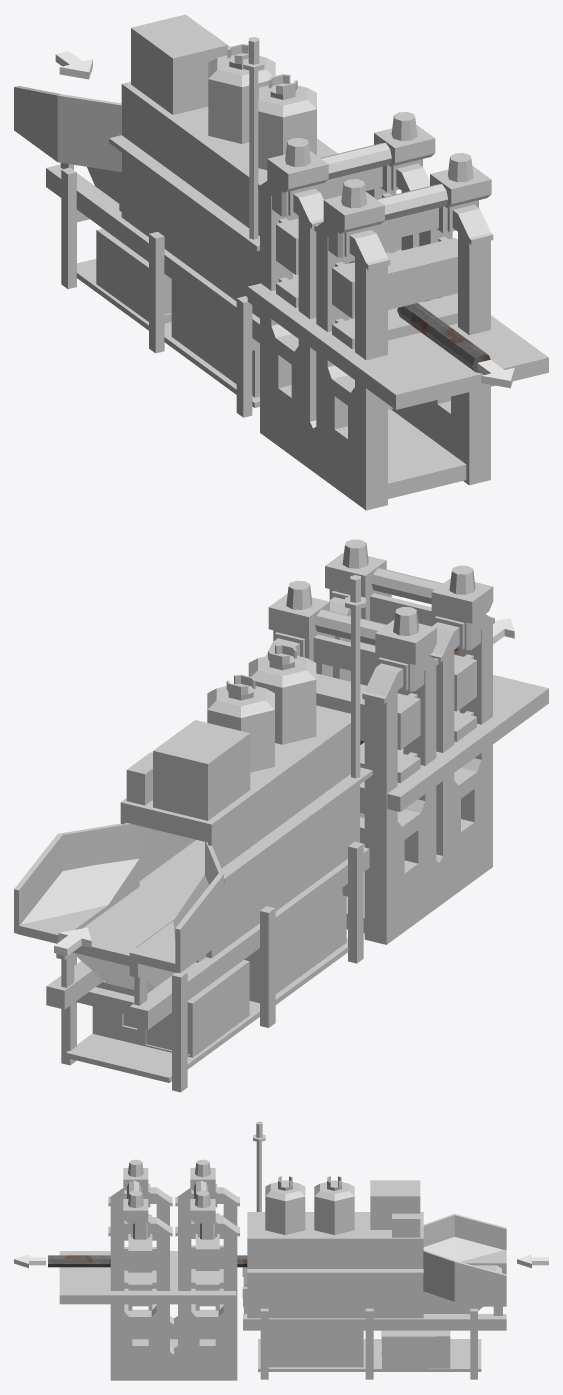
Rendered from RodExtruder.glb.
3 views of the same model, one above another, from view 1: azimuth 30°, elevation 25°; view 2: azimuth 150°, elevation 25°; view 3: azimuth 270°, elevation 25° (orthographic). The views are drawn at different scales.
Parts seen in each view (by area): view 1: RodExtruder_Col, IronRod, ghostarrow, ghostarrow (1); view 2: RodExtruder_Col, ghostarrow (1); view 3: RodExtruder_Col, IronRod.
Boxes of the visible parts, <box> form: RodExtruder_Col: <box>14,14,548,510</box>; IronRod: <box>397,303,490,373</box>; ghostarrow: <box>477,359,514,388</box>; ghostarrow (1): <box>55,51,92,79</box>; RodExtruder_Col: <box>14,539,548,1092</box>; ghostarrow (1): <box>54,927,91,956</box>; RodExtruder_Col: <box>59,1121,506,1380</box>; IronRod: <box>48,1255,110,1267</box>.
Size of what is drawn, in the model's own units: 1.02 by 2.22 by 4.79.
3 materials, 1 textured.
